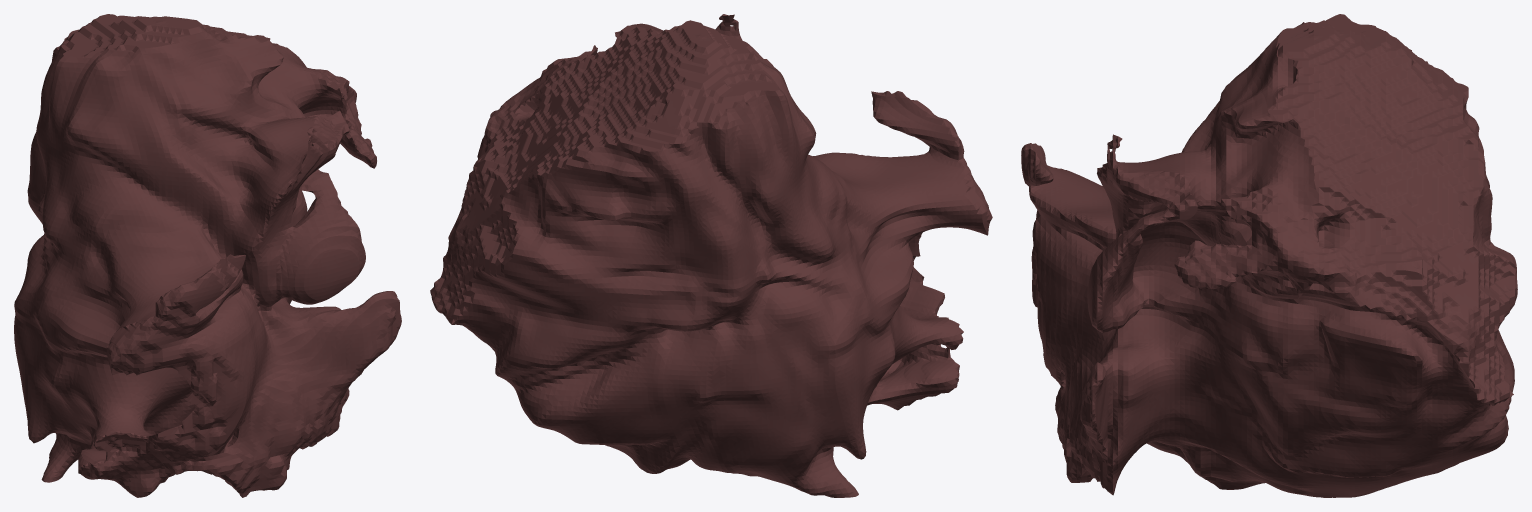
File: g292-0-1-8-supernova-remnant.glb
3 views of the same model, side by side, from view 1: azimuth 30°, elevation 25°; view 2: azimuth 150°, elevation 25°; view 3: azimuth 270°, elevation 25° (orthographic). The views are drawn at different scales.
Parts seen in each view (by area): view 1: G292_02052025; view 2: G292_02052025; view 3: G292_02052025.
Part boxes in pixels (box(x1,y1,x2,y2)): G292_02052025: box(14, 14, 401, 497); G292_02052025: box(430, 14, 992, 497); G292_02052025: box(1021, 14, 1517, 497).
Bounding box in the file's own units: 14.12 × 15.72 × 15.08.
